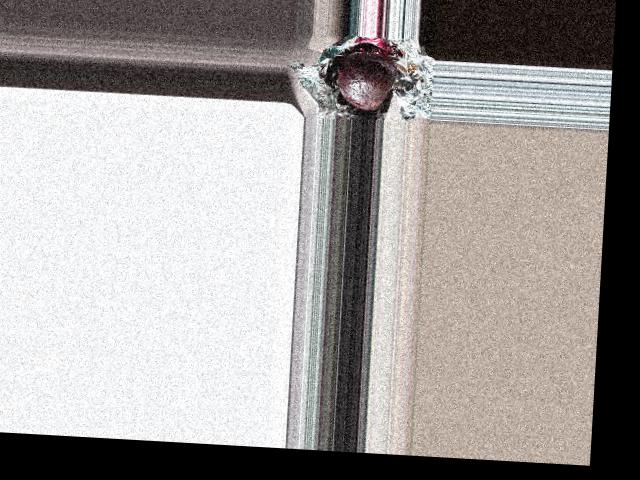beet: (335, 52, 399, 111)
